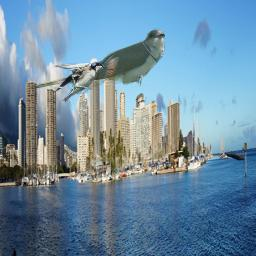Cuckoo: (26, 28, 165, 92)
Swallow: (51, 61, 105, 102)
